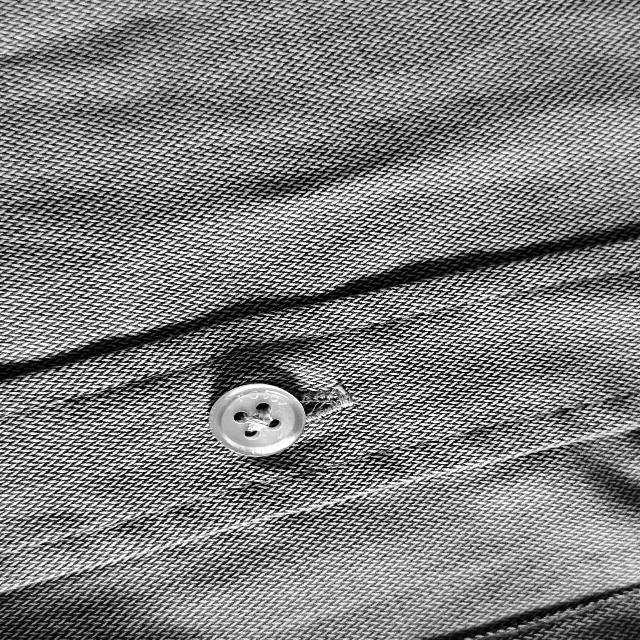Button_hike: (182, 375, 370, 462)
